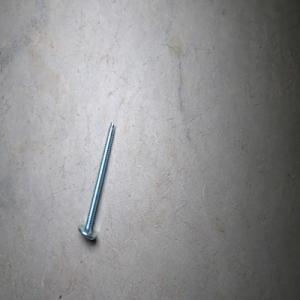Bolt: (76, 121, 115, 241)
